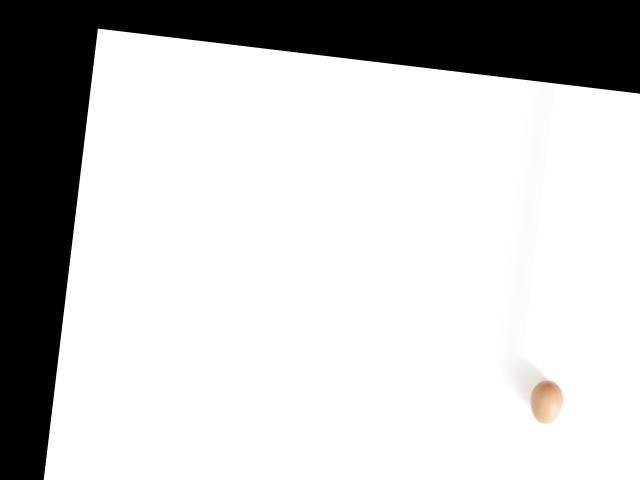egg: (528, 378, 565, 425)
